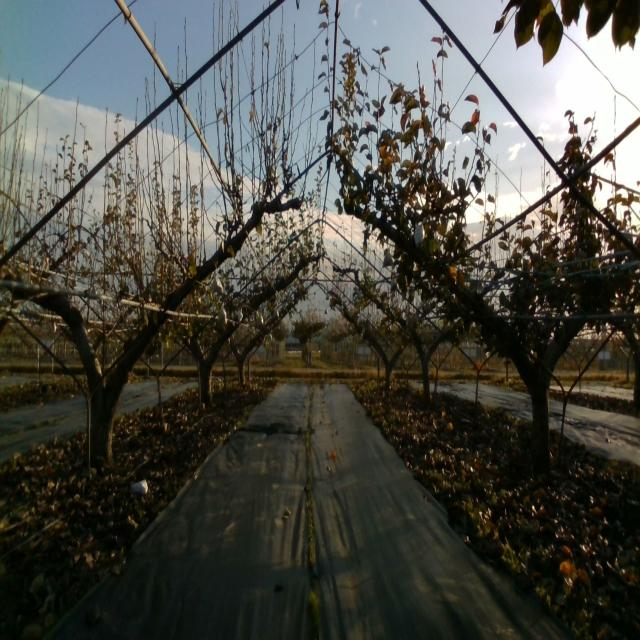pearbags: (414, 222, 426, 246)
